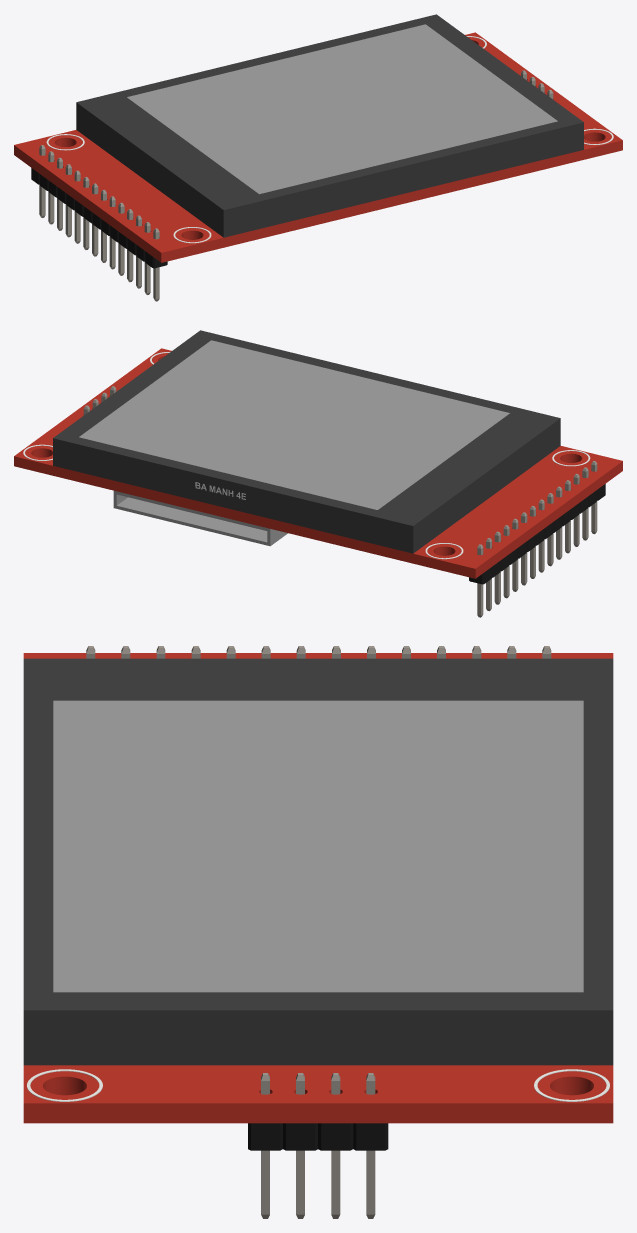
File: lcd.glb
3 renders of one model, top to bottom at view 1: azimuth 30°, elevation 25°; view 2: azimuth 150°, elevation 25°; view 3: azimuth 270°, elevation 25°, orthographic. The views are drawn at different scales.
Visible parts, largest first — view 1: COMPOUND002, COMPOUND001, COMPOUND, 1x1_Pin_Header_2.54mm017, 1x1_Pin_Header_2.54mm007; view 2: COMPOUND002, COMPOUND001, COMPOUND, Component1, 1x1_Pin_Header_2.54mm004, 1x1_Pin_Header_2.54mm008, 1x1_Pin_Header_2.54mm013; view 3: COMPOUND002, COMPOUND001, COMPOUND, 1x1_Pin_Header_2.54mm, 1x1_Pin_Header_2.54mm001, 1x1_Pin_Header_2.54mm003, 1x1_Pin_Header_2.54mm002.
Part boxes in pixels (bbox=[...]): COMPOUND002: bbox=[127, 24, 557, 194]; COMPOUND001: bbox=[76, 14, 583, 237]; COMPOUND: bbox=[14, 32, 622, 262]; 1x1_Pin_Header_2.54mm017: bbox=[145, 228, 167, 301]; 1x1_Pin_Header_2.54mm007: bbox=[57, 164, 71, 237]; COMPOUND002: bbox=[79, 340, 509, 509]; COMPOUND001: bbox=[53, 330, 560, 553]; COMPOUND: bbox=[14, 348, 622, 578]; Component1: bbox=[113, 490, 287, 546]; 1x1_Pin_Header_2.54mm004: bbox=[469, 544, 491, 617]; 1x1_Pin_Header_2.54mm008: bbox=[512, 518, 526, 591]; 1x1_Pin_Header_2.54mm013: bbox=[556, 486, 570, 559]; COMPOUND002: bbox=[53, 700, 583, 992]; COMPOUND001: bbox=[23, 658, 613, 1065]; COMPOUND: bbox=[23, 653, 613, 1123]; 1x1_Pin_Header_2.54mm: bbox=[353, 1073, 388, 1218]; 1x1_Pin_Header_2.54mm001: bbox=[318, 1073, 353, 1218]; 1x1_Pin_Header_2.54mm003: bbox=[248, 1073, 282, 1218]; 1x1_Pin_Header_2.54mm002: bbox=[283, 1073, 317, 1218].
Size of the model in its own units: 0.0772 by 0.0145 by 0.0427.
